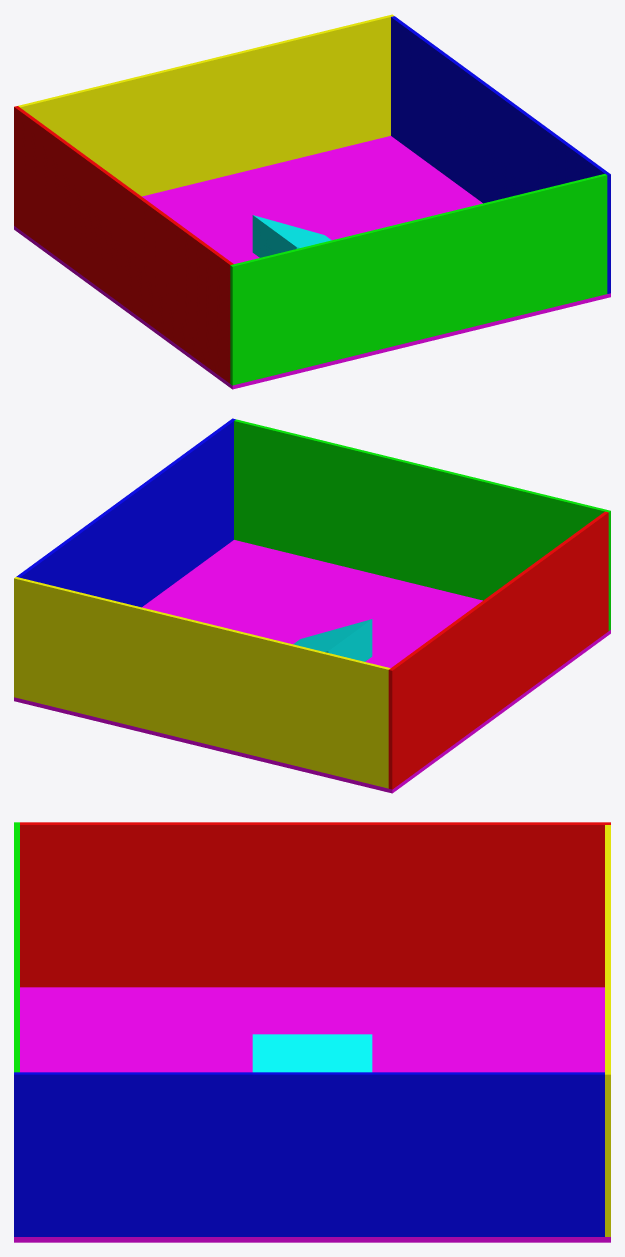
File: TestStage.fbx
3 renders of one model, top to bottom at view 1: azimuth 30°, elevation 25°; view 2: azimuth 150°, elevation 25°; view 3: azimuth 270°, elevation 25°, orthographic. The views are drawn at different scales.
Parts seen in each view (by area): view 1: 立方体.001, 立方体, 立方体.003, Cube, 立方体.002, 立方体.004; view 2: 立方体, 立方体.001, 立方体.003, Cube, 立方体.002, 立方体.004; view 3: 立方体.002, 立方体.003, Cube, 立方体.004, 立方体, 立方体.001.
Boxes of the visible parts, <box> form: 立方体.001: <box>230,174,607,385</box>; 立方体: <box>18,14,393,196</box>; 立方体.003: <box>14,106,233,383</box>; Cube: <box>14,136,610,389</box>; 立方体.002: <box>391,16,610,293</box>; 立方体.004: <box>252,215,331,257</box>; 立方体: <box>14,577,390,788</box>; 立方体.001: <box>234,419,610,630</box>; 立方体.003: <box>388,511,608,789</box>; Cube: <box>14,540,610,793</box>; 立方体.002: <box>16,418,235,607</box>; 立方体.004: <box>293,619,372,661</box>; 立方体.002: <box>14,1072,604,1236</box>; 立方体.003: <box>20,822,610,987</box>; Cube: <box>14,987,610,1242</box>; 立方体.004: <box>252,1034,372,1072</box>; 立方体: <box>605,825,610,1236</box>; 立方体.001: <box>14,822,19,1072</box>.
Size of the model in its own units: 200 by 62 by 200.
